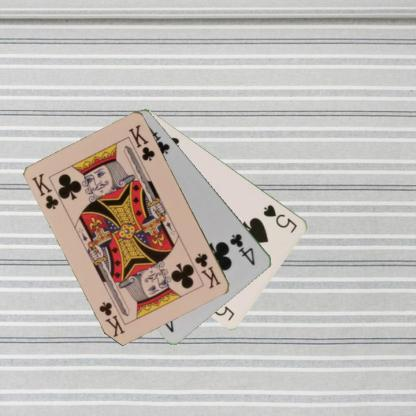4c: (227, 230, 257, 267)
5s: (260, 202, 298, 234)
Kc: (30, 170, 61, 211), (192, 250, 223, 290)
